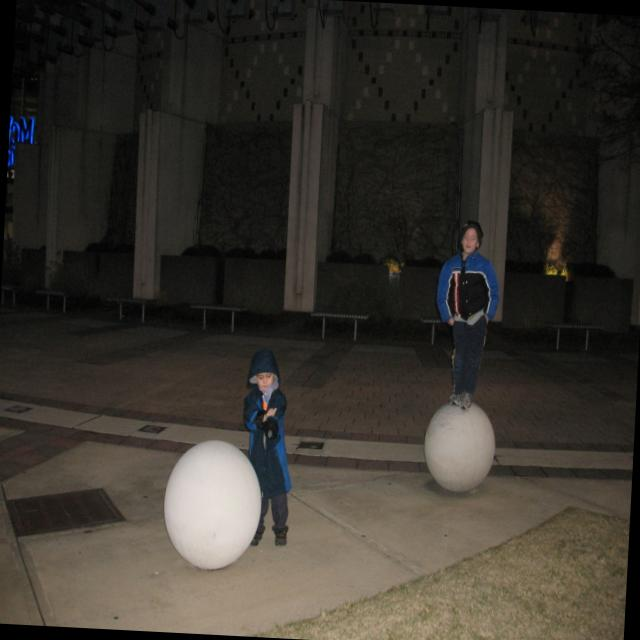Ball: (158, 440, 268, 569), (423, 401, 498, 495)
